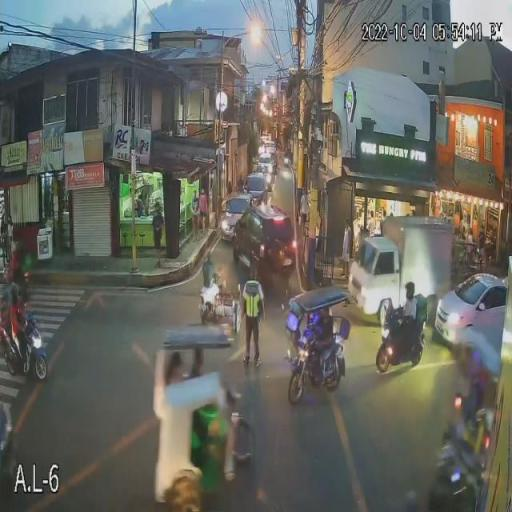helmet: (7, 285, 24, 306), (402, 282, 418, 302), (202, 252, 214, 266)
motorcycle: (286, 329, 346, 405), (0, 308, 49, 382), (375, 310, 426, 374), (198, 280, 218, 332)
rider: (4, 282, 34, 370), (394, 282, 426, 346), (199, 253, 218, 300)
